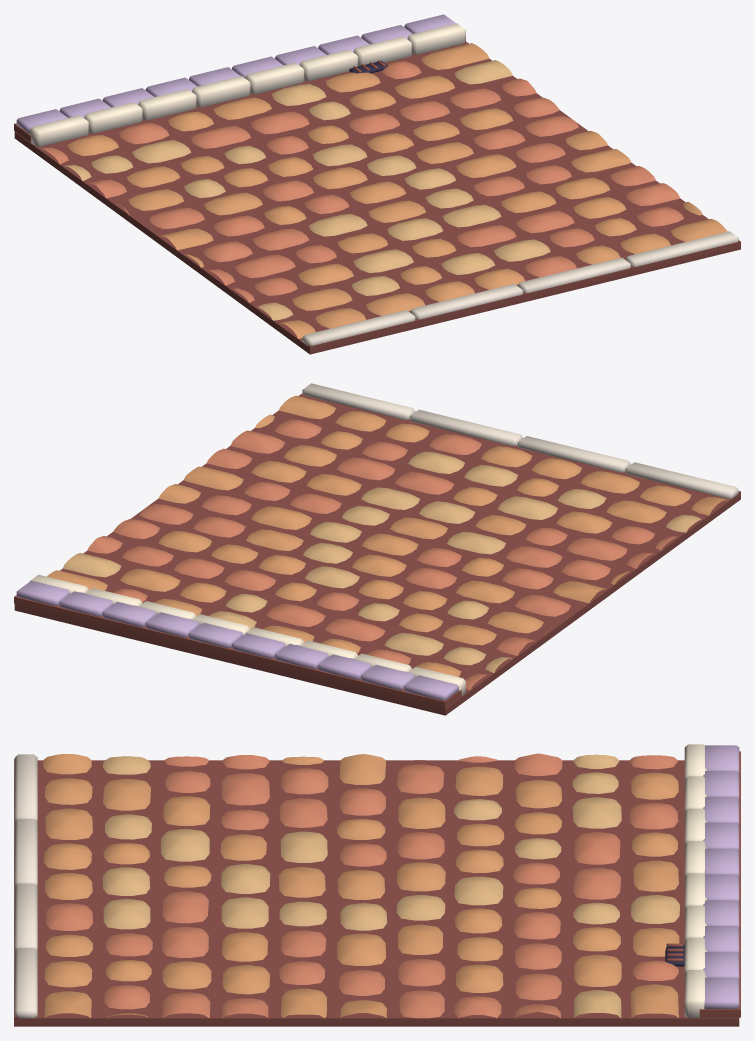
File: street_tile.glb
3 renders of one model, top to bottom at view 1: azimuth 30°, elevation 25°; view 2: azimuth 150°, elevation 25°; view 3: azimuth 270°, elevation 25°, orthographic. The views are drawn at different scales.
Visible parts, largest first — view 1: street_tile; view 2: street_tile; view 3: street_tile.
Part boxes in pixels (bbox=[...]): street_tile: bbox=[14, 14, 740, 354]; street_tile: bbox=[14, 383, 740, 715]; street_tile: bbox=[14, 744, 740, 1026].
Size of the model in its own units: 8 by 0.38 by 9.52.
